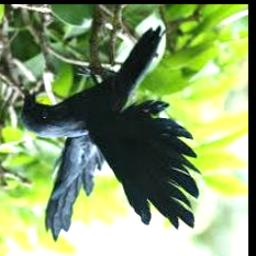Crow: (21, 25, 200, 243)
